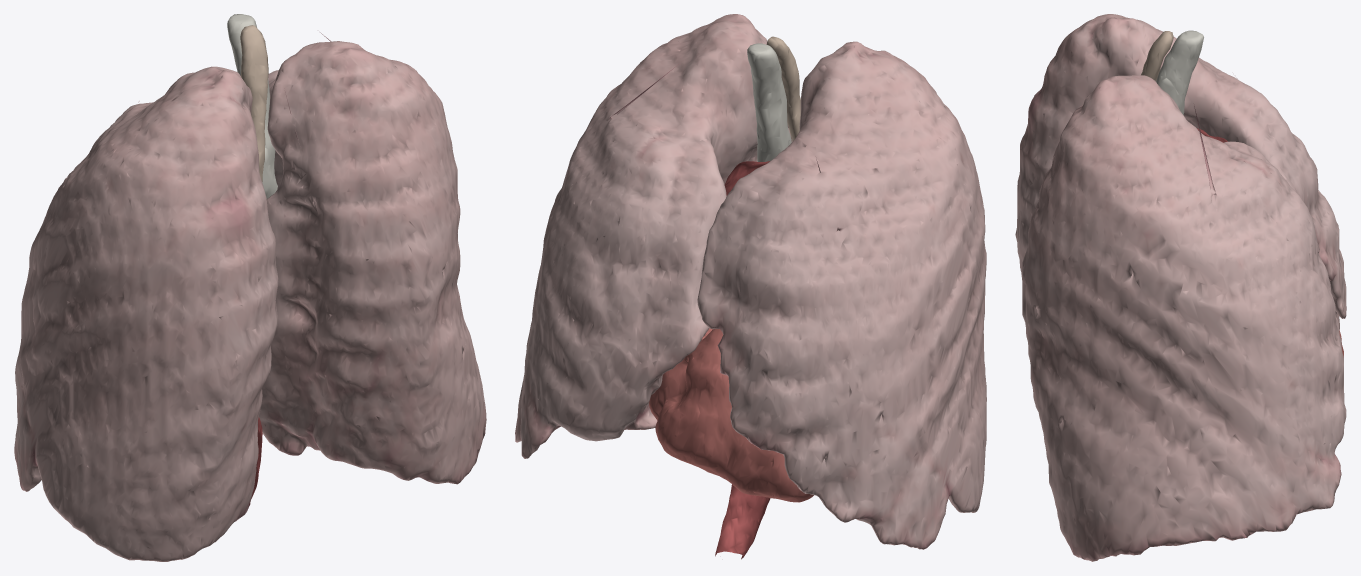
Rendered from torax-alta.glb.
3 renders of one model, left to right at view 1: azimuth 30°, elevation 25°; view 2: azimuth 150°, elevation 25°; view 3: azimuth 270°, elevation 25°, orthographic. The views are drawn at different scales.
Visible parts, largest first — view 1: lung_left, lung_right, esophagus, trachea; view 2: lung_left, lung_right, heart, trachea, aorta, esophagus; view 3: lung_right, lung_left, trachea, esophagus.
Part boxes in pixels (bbox=[...]): lung_left: bbox=[14, 66, 278, 561]; lung_right: bbox=[259, 32, 486, 484]; esophagus: bbox=[240, 25, 268, 181]; trachea: bbox=[227, 14, 277, 198]; lung_left: bbox=[697, 41, 986, 549]; lung_right: bbox=[515, 14, 792, 458]; heart: bbox=[649, 328, 813, 502]; trachea: bbox=[747, 43, 791, 161]; aorta: bbox=[715, 161, 770, 559]; esophagus: bbox=[766, 36, 800, 141]; lung_right: bbox=[1022, 75, 1346, 561]; lung_left: bbox=[1015, 14, 1346, 329]; trachea: bbox=[1156, 30, 1203, 114]; esophagus: bbox=[1141, 31, 1173, 81].
Bounding box in the file's own units: 0.2688 × 0.3072 × 0.1868.
